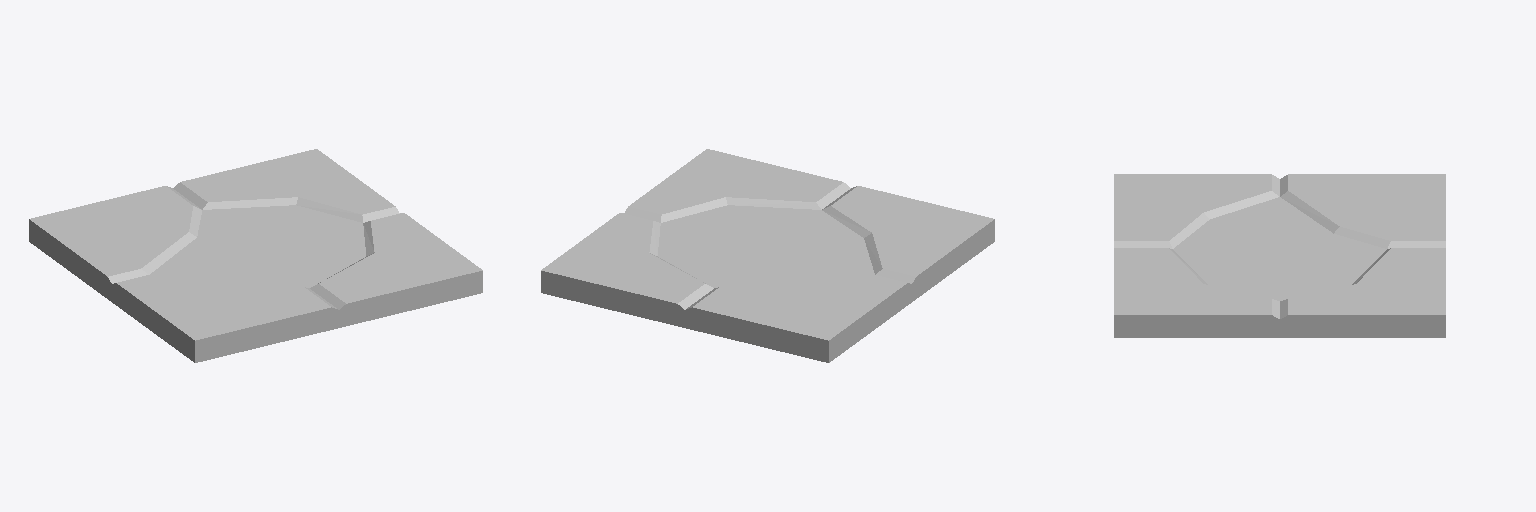
The model's file is floor_tile_small_broken_B.obj.
3 renders of one model, left to right at view 1: azimuth 30°, elevation 25°; view 2: azimuth 150°, elevation 25°; view 3: azimuth 270°, elevation 25°, orthographic.
Visible parts, largest first — view 1: floor_tile_small_broken_B; view 2: floor_tile_small_broken_B; view 3: floor_tile_small_broken_B.
Boxes of the visible parts, <box> form: floor_tile_small_broken_B: <box>29,149,482,362</box>; floor_tile_small_broken_B: <box>541,149,994,362</box>; floor_tile_small_broken_B: <box>1114,174,1445,337</box>.
Size of the model in its own units: 2 by 0.15 by 2.